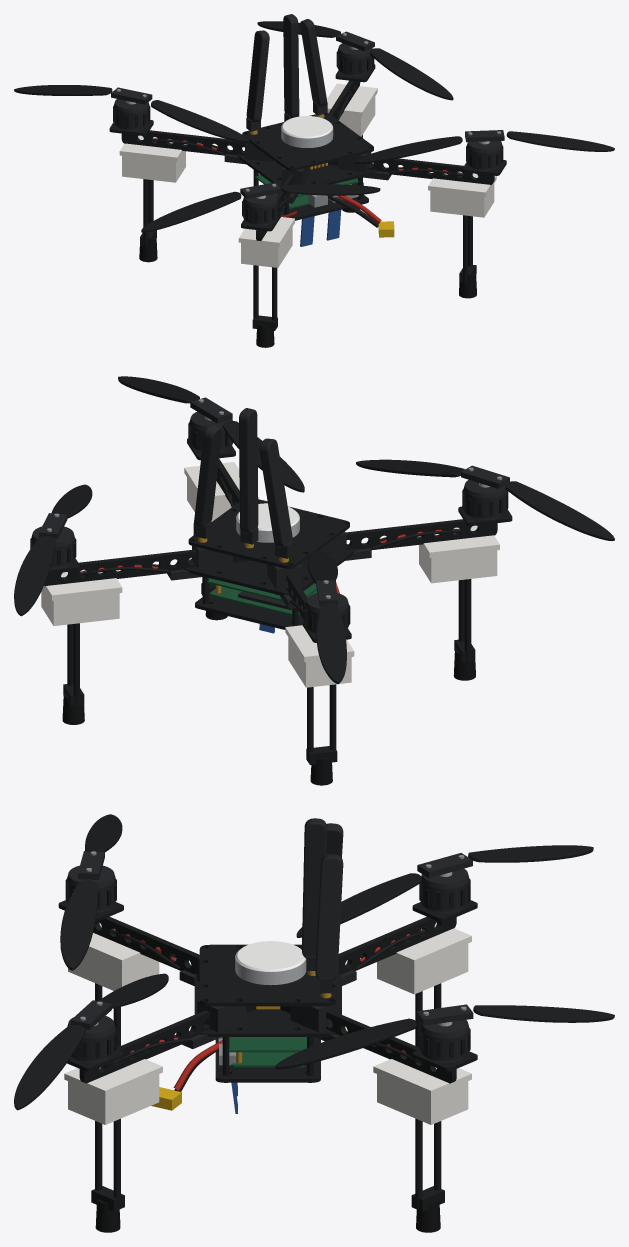
The picture shows the model from 3 angles, top to bottom: view 1: azimuth 30°, elevation 25°; view 2: azimuth 150°, elevation 25°; view 3: azimuth 270°, elevation 25°; orthographic projection. The views are drawn at different scales.
Parts seen in each view (by area): view 1: topFramePlate, armRearLeftPrintedMount, armRearLeftBeam, armFrontRightBeam, antennaCenterRadome, armFrontRightPrintedMount, mainFramePlate, antennaLeftRadome, armRearRightBladeB, armRearLeftBladeB, armFrontLeftPrintedMount, antennaRightRadome (+18 smaller); view 2: topFramePlate, armFrontLeftPrintedMount, armRearRightBeam, armFrontLeftBeam, antennaCenterRadome, armRearRightPrintedMount, antennaLeftRadome, mainFramePlate, armRearRightBladeA, armRearLeftBladeA, armFrontLeftBladeA, antennaRightRadome (+21 smaller); view 3: topFramePlate, armRearRightPrintedMount, armFrontRightPrintedMount, armRearLeftPrintedMount, antennaRightRadome, armFrontLeftPrintedMount, antennaCenterRadome, armFrontRightBladeA, armFrontLeftBladeB, mainFramePlate, armFrontRightBeam, armRearRightBladeB (+31 smaller).
Boxes of the visible parts, box(x1,y1,x2,y2) form: topFramePlate: box(242, 113, 373, 170); armRearLeftPrintedMount: box(122, 135, 185, 182); armRearLeftBeam: box(121, 130, 244, 155); armFrontRightBeam: box(328, 158, 494, 184); antennaCenterRadome: box(283, 14, 299, 118); armFrontRightPrintedMount: box(430, 178, 494, 217); mainFramePlate: box(237, 150, 377, 186); antennaLeftRadome: box(246, 30, 269, 122); armRearRightBladeB: box(370, 48, 453, 100); armRearLeftBladeB: box(151, 100, 249, 142); armFrontLeftPrintedMount: box(241, 217, 292, 267); antennaRightRadome: box(300, 19, 327, 106); topFramePlate: box(188, 499, 349, 568); armFrontLeftPrintedMount: box(419, 527, 497, 583); armRearRightBeam: box(44, 549, 251, 586); armFrontLeftBeam: box(346, 519, 497, 550); antennaCenterRadome: box(239, 408, 258, 533); armRearRightPrintedMount: box(41, 570, 119, 625); antennaLeftRadome: box(259, 438, 292, 547); mainFramePlate: box(184, 544, 356, 595); armRearRightBladeA: box(14, 536, 55, 616); armRearLeftBladeA: box(316, 603, 346, 684); armFrontLeftBladeA: box(505, 481, 614, 540); antennaRightRadome: box(194, 424, 221, 528); topFramePlate: box(199, 944, 336, 1006); armRearRightPrintedMount: box(377, 1059, 468, 1124); armFrontRightPrintedMount: box(68, 1060, 159, 1124); armRearLeftPrintedMount: box(377, 922, 468, 994); antennaRightRadome: box(315, 854, 343, 979); armFrontLeftPrintedMount: box(68, 923, 159, 990); antennaCenterRadome: box(302, 818, 326, 957); armFrontRightBladeA: box(14, 1025, 85, 1110); armFrontLeftBladeB: box(60, 880, 97, 970); mainFramePlate: box(194, 973, 341, 1036); armFrontRightBeam: box(79, 1006, 256, 1083); armRearRightBladeB: box(275, 1018, 416, 1069).
Bounding box in the file's own units: 0.528 × 0.2845 × 0.4566.
